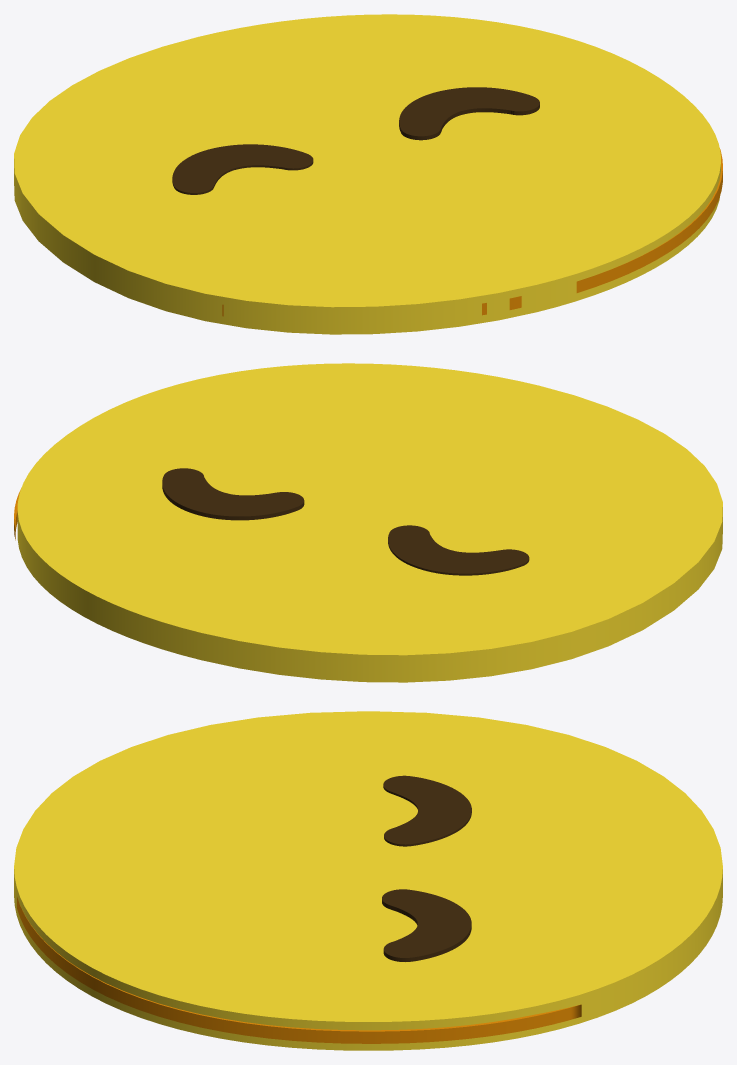
File: emoji_u1f61a.glb
The picture shows the model from 3 angles, top to bottom: view 1: azimuth 30°, elevation 25°; view 2: azimuth 150°, elevation 25°; view 3: azimuth 270°, elevation 25°; orthographic projection. The views are drawn at different scales.
Visible parts, largest first — view 1: emoji_u1f61a; view 2: emoji_u1f61a; view 3: emoji_u1f61a.
Boxes of the visible parts, left/top/right/bottom form: emoji_u1f61a: left=14, top=14, right=722, bottom=334; emoji_u1f61a: left=14, top=363, right=722, bottom=682; emoji_u1f61a: left=14, top=711, right=722, bottom=1050.
Size of the model in its own units: 0.0327 by 0.0018 by 0.0314.
